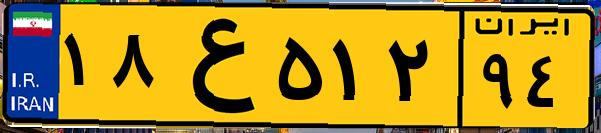1: (330, 28, 385, 110), (57, 26, 110, 100)
2: (385, 28, 445, 110)
4: (525, 38, 570, 115)
5: (270, 28, 330, 110)
8: (110, 28, 158, 98)
9: (475, 38, 525, 113)
ع: (158, 12, 270, 120)
